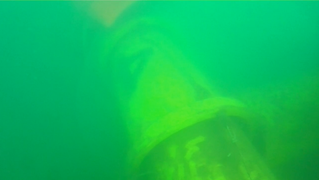4: (117, 45, 153, 99)
leak: (82, 1, 136, 29)
pipe: (94, 15, 278, 179), (230, 71, 319, 168)
